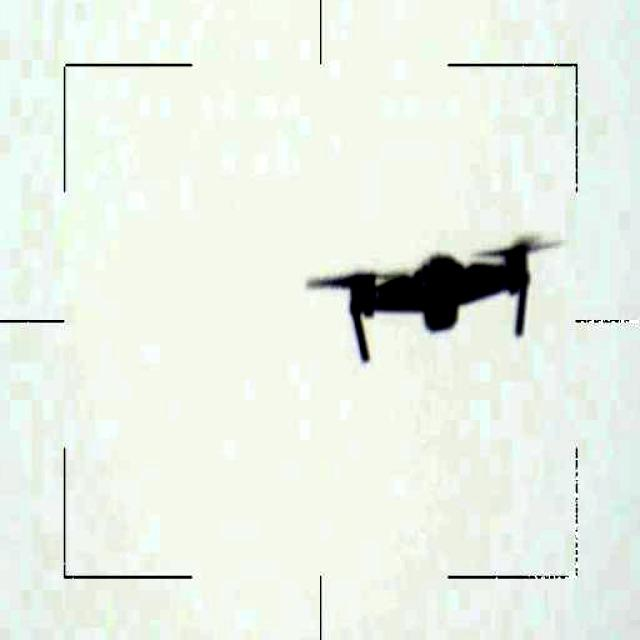bird: (304, 235, 570, 362)
